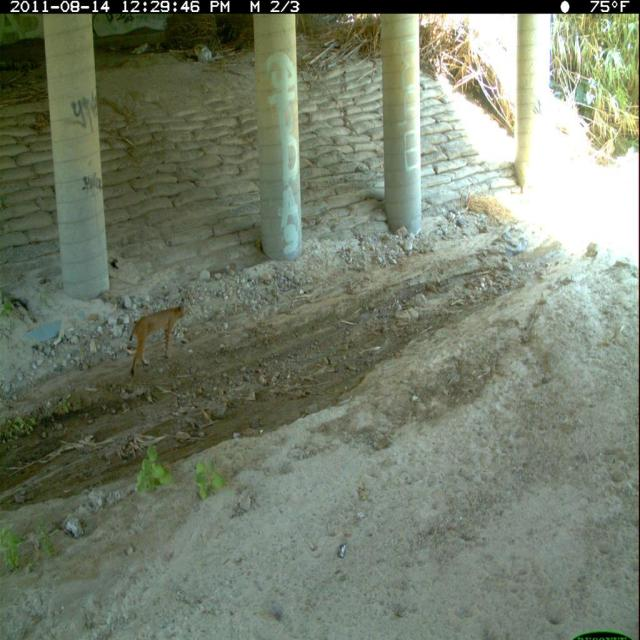bobcat: (127, 294, 195, 382)
